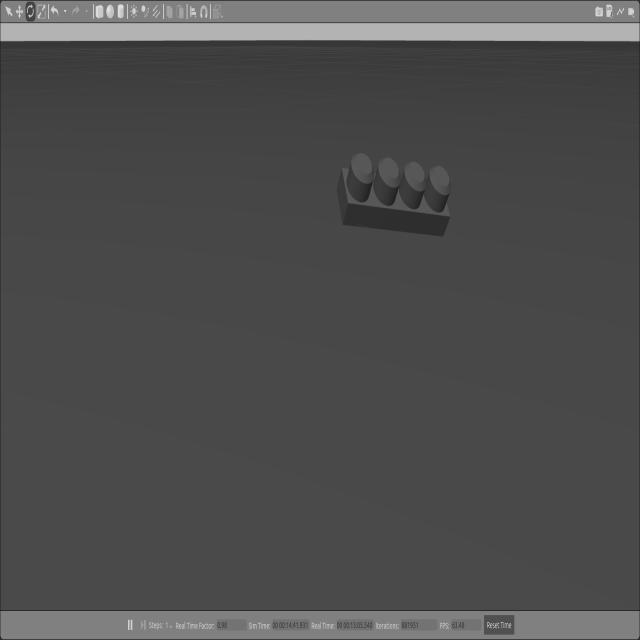block8: (337, 153, 451, 237)
